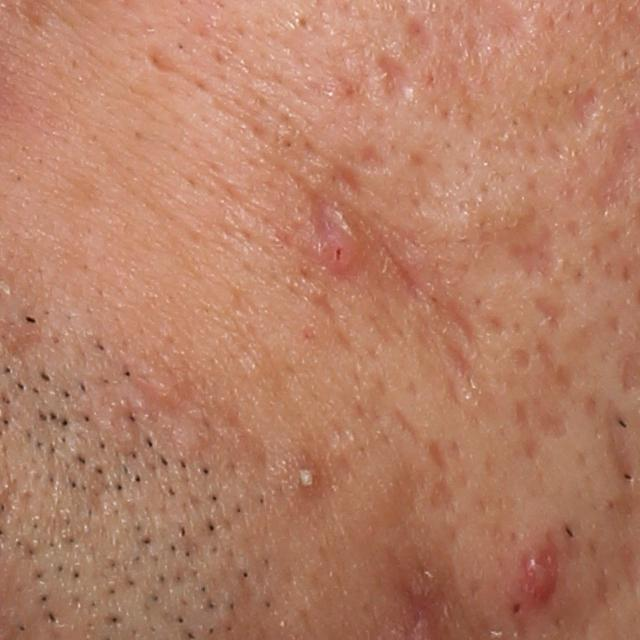atrophic_scar: (507, 220, 560, 283), (605, 397, 636, 489), (570, 73, 608, 141), (378, 50, 417, 116), (535, 338, 578, 394), (437, 295, 484, 345), (521, 395, 569, 439), (434, 331, 477, 377), (402, 8, 437, 61), (533, 293, 571, 335), (430, 475, 465, 515), (142, 46, 180, 74), (355, 143, 388, 175), (426, 440, 454, 477), (506, 344, 531, 375)
comedo: (292, 14, 311, 35)
papule: (508, 547, 564, 618), (315, 231, 360, 281)
pustule: (286, 454, 325, 500)
